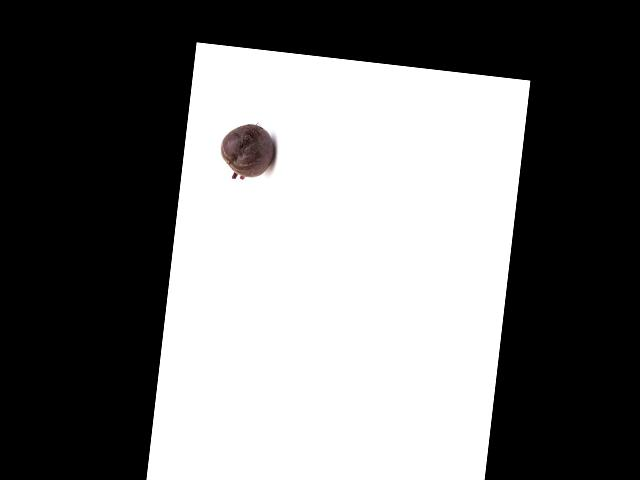beet: (217, 120, 278, 182)
